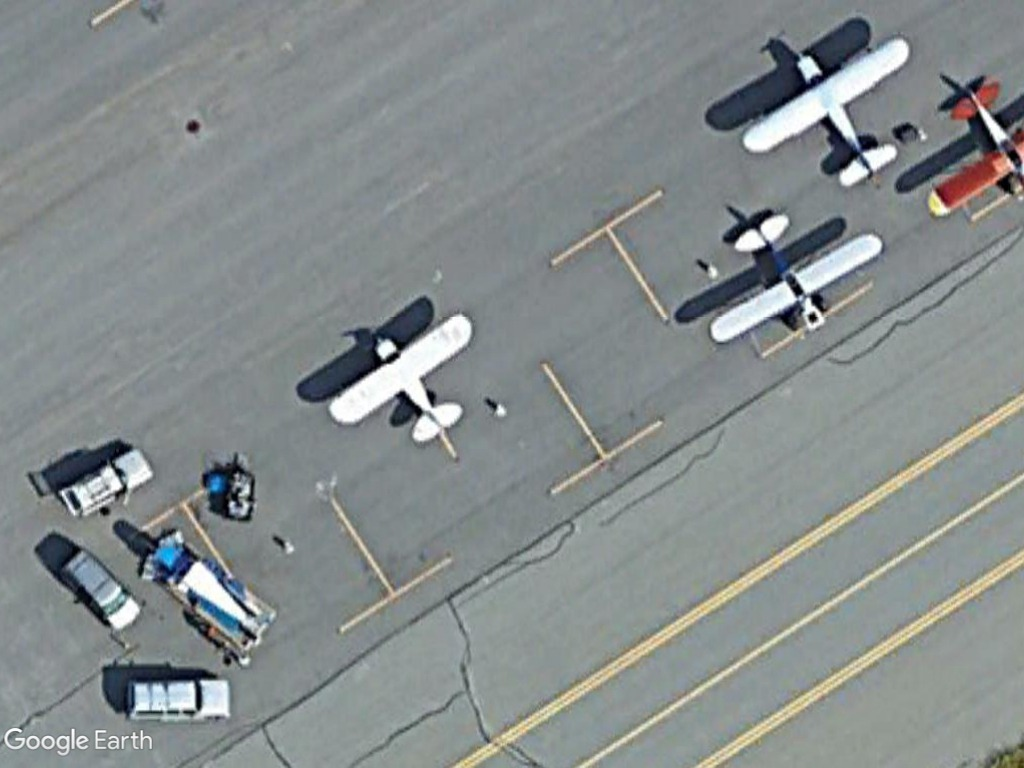trainer: (735, 30, 922, 193), (703, 207, 885, 353), (325, 305, 485, 444)
van: (54, 546, 146, 636), (120, 669, 233, 727)
